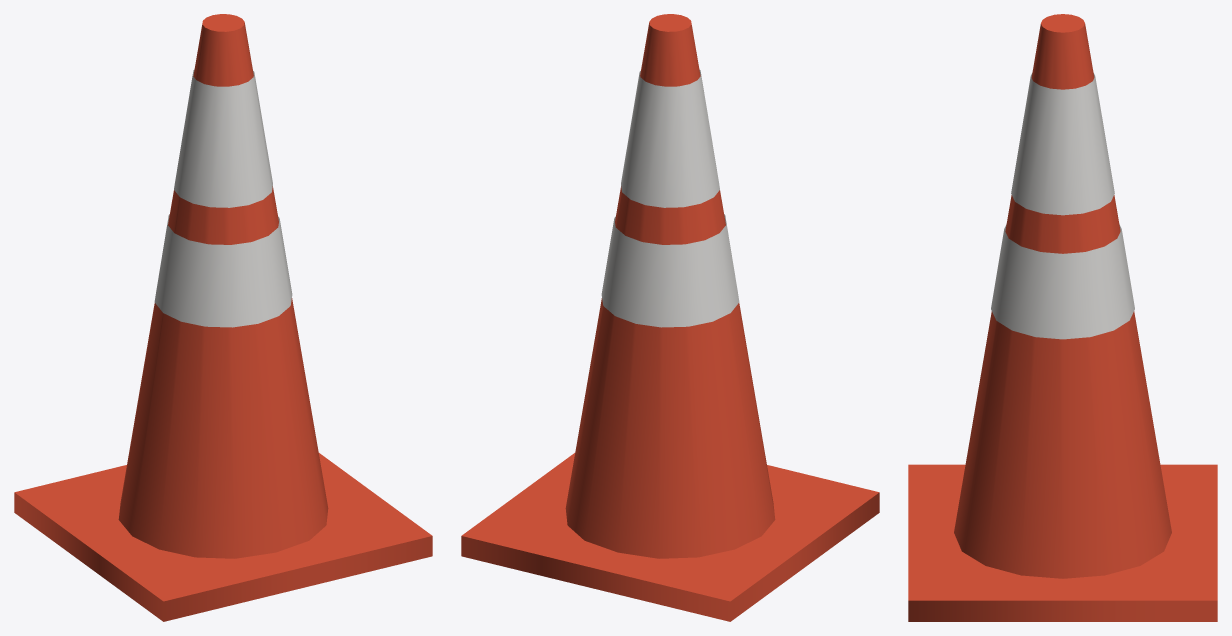
The picture shows the model from 3 angles, left to right: view 1: azimuth 30°, elevation 25°; view 2: azimuth 150°, elevation 25°; view 3: azimuth 270°, elevation 25°; orthographic projection. The views are drawn at different scales.
Parts seen in each view (by area): view 1: Cone; view 2: Cone; view 3: Cone.
Part boxes in pixels (<box>): Cone: <box>14,14,432,621</box>; Cone: <box>461,14,879,621</box>; Cone: <box>908,14,1217,621</box>.
Size of what is drawn, in the model's own units: 29.01 by 52.7 by 27.87.
